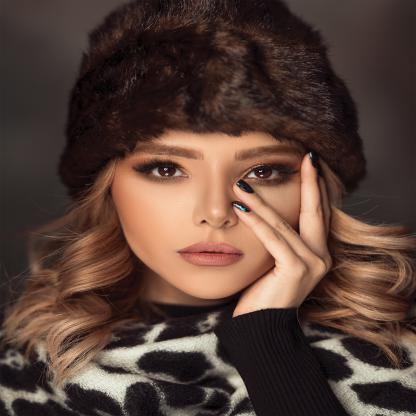Eye: (235, 159, 305, 188), (129, 159, 193, 184)
Mouth: (178, 230, 250, 272)
Nose: (192, 169, 240, 230)
